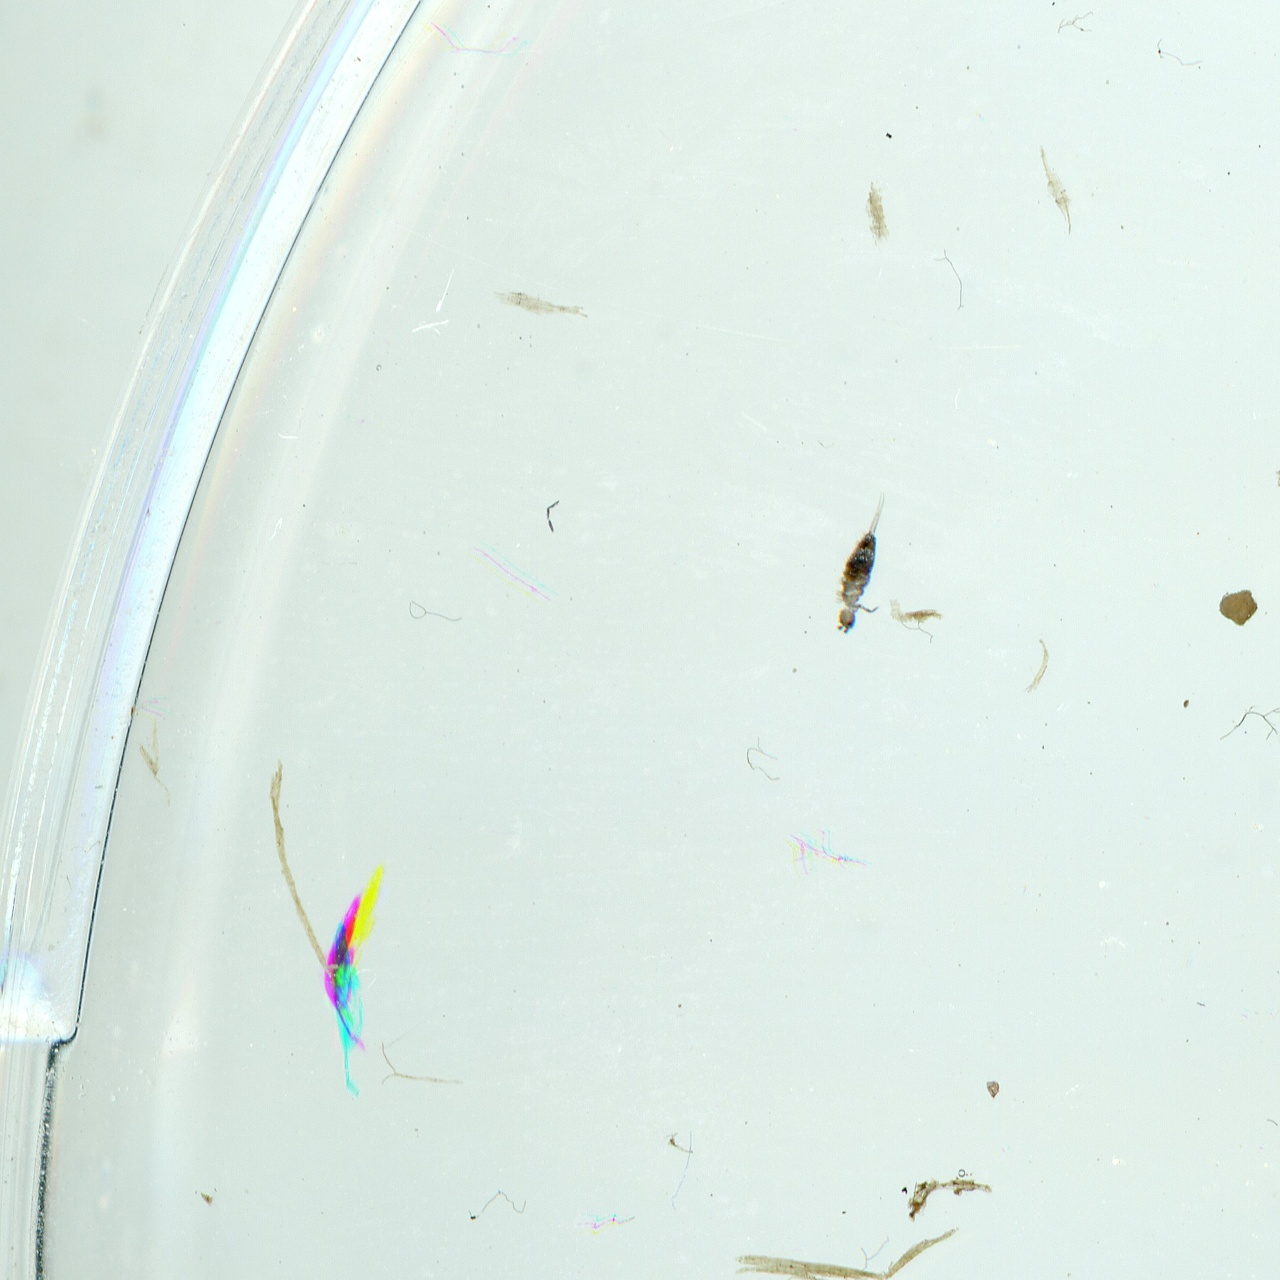arthropod: (819, 479, 913, 649)
